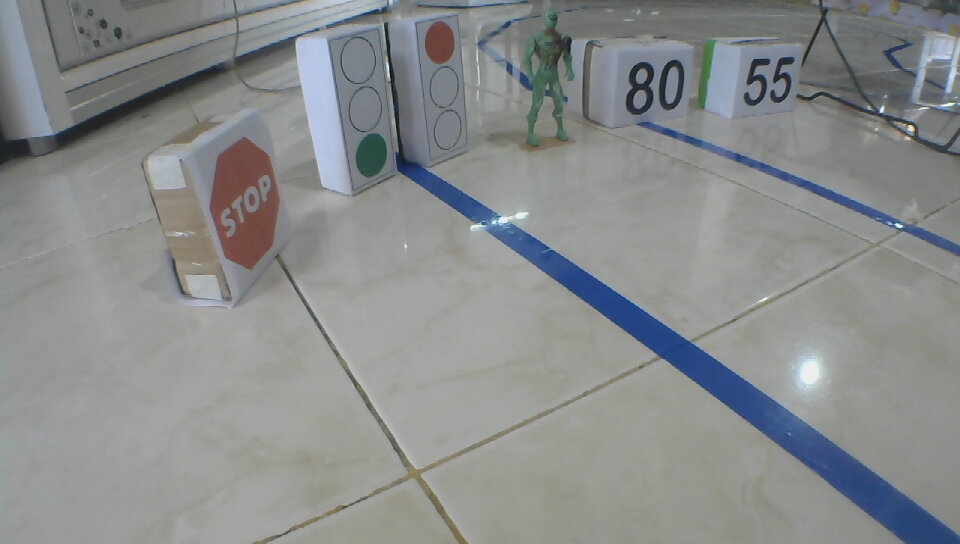Green Light: (340, 36, 388, 179)
Person: (523, 13, 573, 150)
Red Light: (425, 22, 463, 152)
Speed 55: (742, 58, 795, 107)
Speed 80: (624, 60, 686, 117)
Stop: (209, 136, 279, 271)
